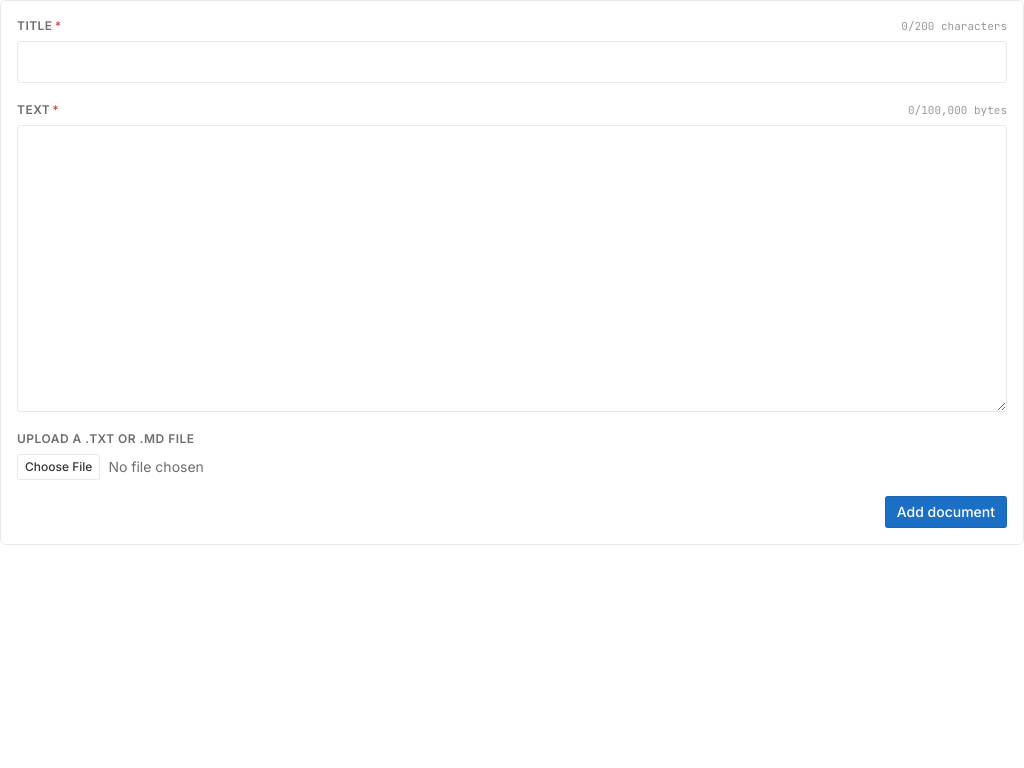
Test case: DocumentForm › will not submit an empty title
Type "Some text" into the text box labelled "Text" at point(512, 268), box [17,125,1007,412]
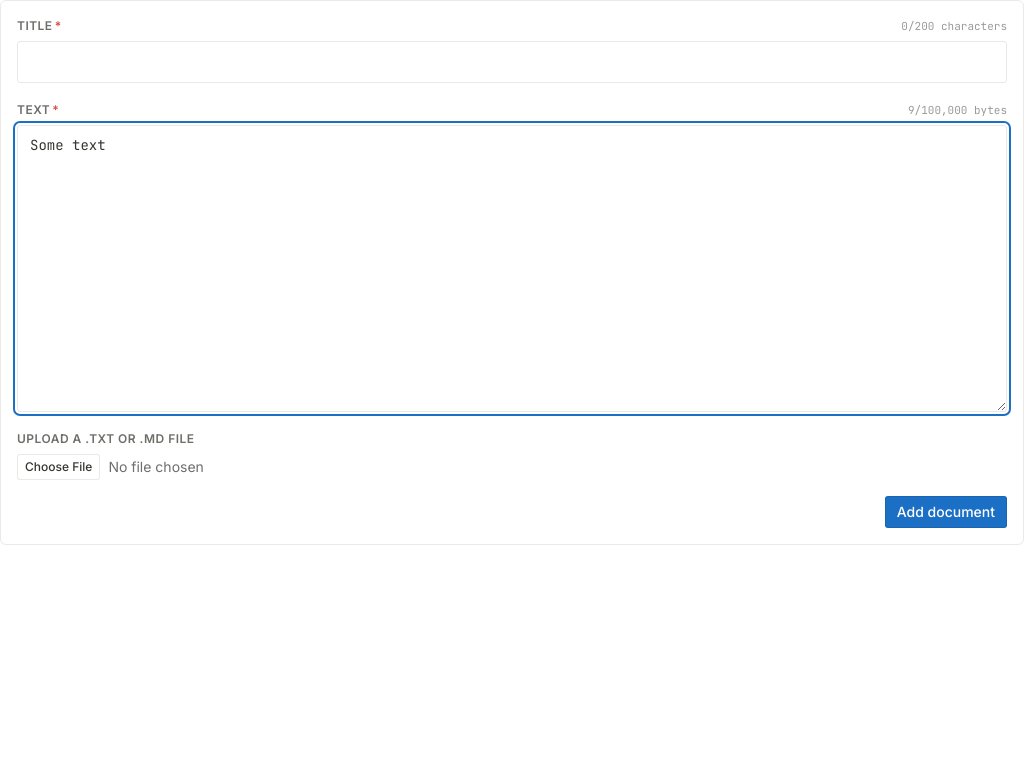
Click the button "Add document" at point(946, 512), box [885,496,1007,528]
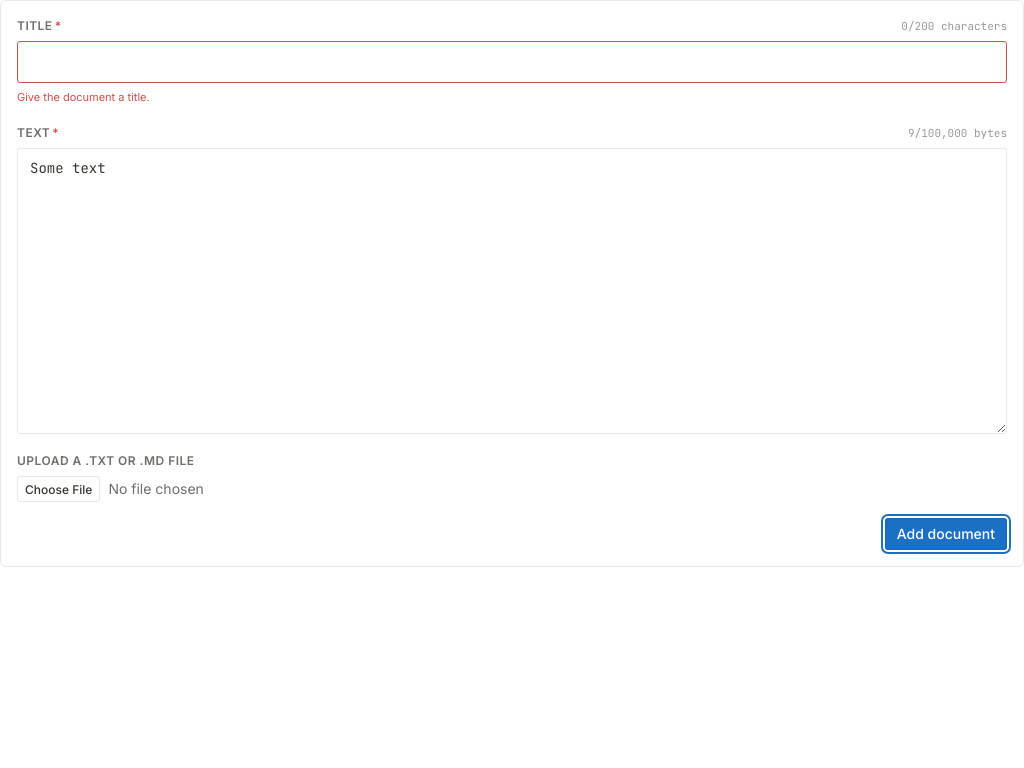
Now the message reads "Give the document a title.", box [17,90,150,104]
